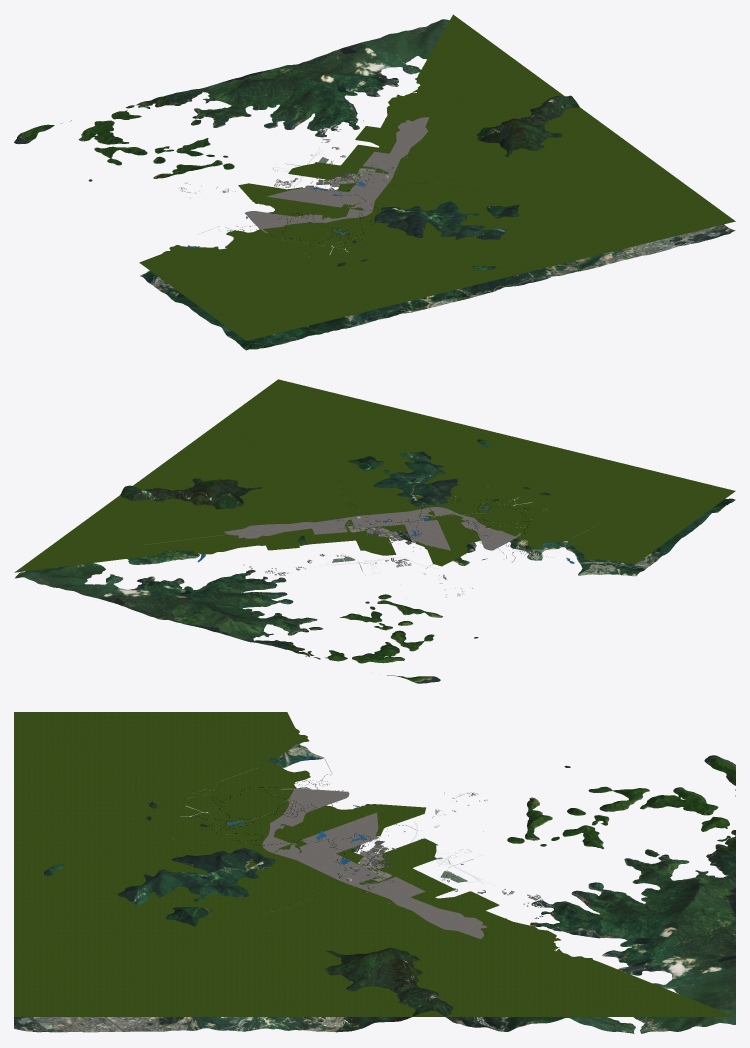
The model's file is main-d.glb.
3 renders of one model, top to bottom at view 1: azimuth 30°, elevation 25°; view 2: azimuth 150°, elevation 25°; view 3: azimuth 270°, elevation 25°, orthographic. The views are drawn at different scales.
Parts seen in each view (by area): view 1: 3d66-PolyMeshObject-20022528-006, 3d66-Editable_mesh-20022528-016, SM_DiMian, 1号楼; view 2: 3d66-PolyMeshObject-20022528-006, 3d66-Editable_mesh-20022528-016, SM_DiMian, 1号楼; view 3: 3d66-PolyMeshObject-20022528-006, 3d66-Editable_mesh-20022528-016, SM_DiMian, 1号楼.
Part boxes in pixels (left/top/right/bottom): 3d66-PolyMeshObject-20022528-006: left=139, top=14, right=735, bottom=340; 3d66-Editable_mesh-20022528-016: left=14, top=19, right=735, bottom=350; SM_DiMian: left=245, top=117, right=429, bottom=232; 1号楼: left=178, top=120, right=386, bottom=247; 3d66-PolyMeshObject-20022528-006: left=14, top=379, right=735, bottom=572; 3d66-Editable_mesh-20022528-016: left=15, top=439, right=735, bottom=683; SM_DiMian: left=223, top=507, right=520, bottom=550; 1号楼: left=197, top=496, right=574, bottom=597; 3d66-PolyMeshObject-20022528-006: left=14, top=712, right=734, bottom=1016; 3d66-Editable_mesh-20022528-016: left=14, top=744, right=735, bottom=1033; SM_DiMian: left=262, top=788, right=487, bottom=938; 1号楼: left=192, top=755, right=559, bottom=947.
Bounding box in the file's own units: 5.68e+08 × 2.95e+07 × 5.68e+08.
Materials: 55 (55 with a texture image).
